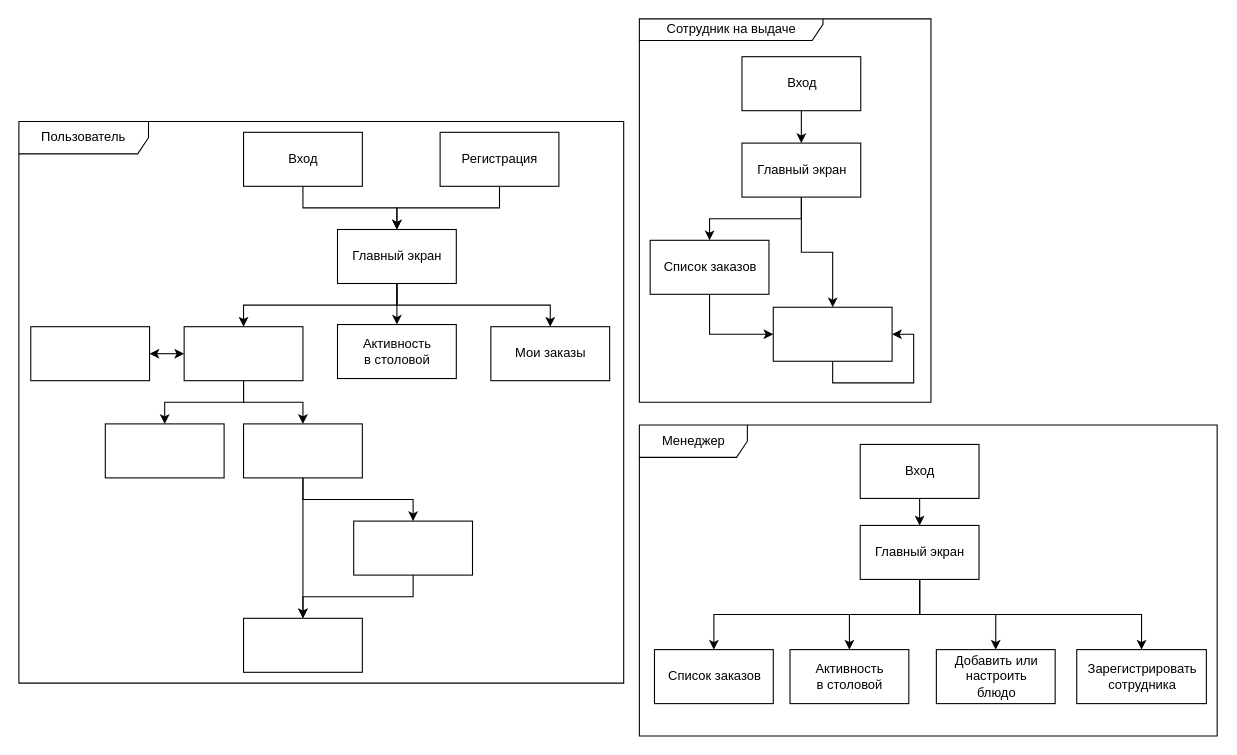
This 1237x755 diagram has some shape labels left out. Each missing label, with the centre of its shape:
"Qr-код" belongs at pixel 302 644.
"Меню" belongs at pixel 243 353.
"Описание блюда" belongs at pixel 164 450.
"Оплата" belongs at pixel 413 547.
"Оформление заказа" belongs at pixel 302 450.
"Просмотр заказа" belongs at pixel 832 333.
"Фильтры" belongs at pixel 90 353.
